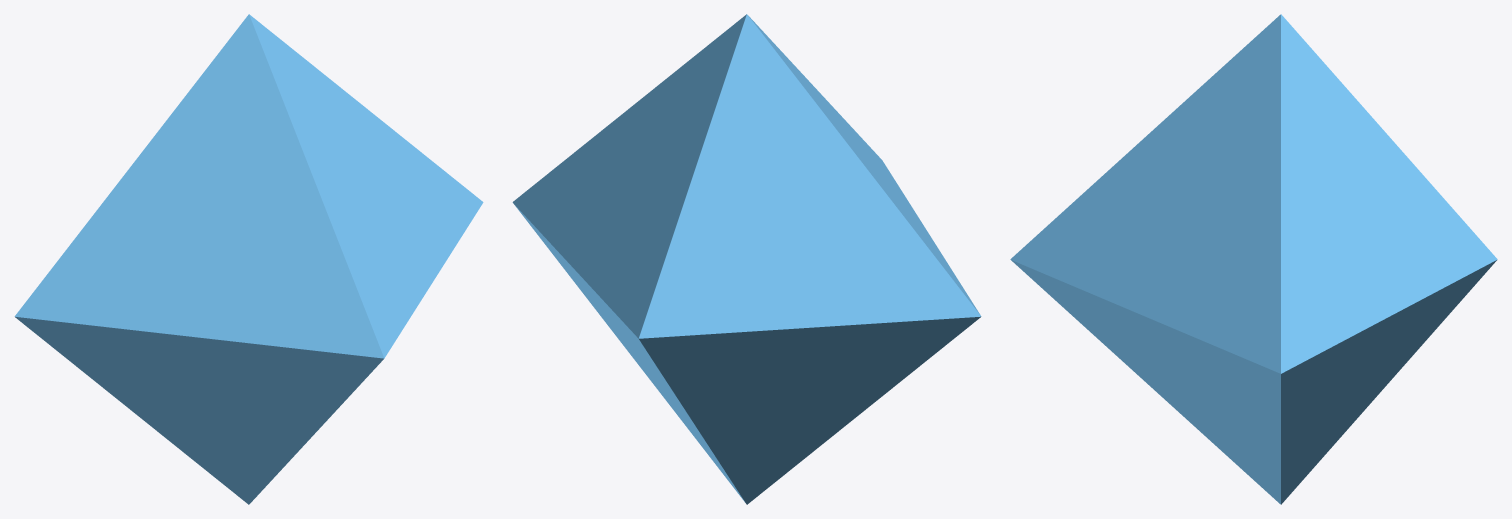
File: 20260311_191815_create_a_rocket_blue_small.glb
3 renders of one model, left to right at view 1: azimuth 30°, elevation 25°; view 2: azimuth 150°, elevation 25°; view 3: azimuth 270°, elevation 25°, orthographic.
Visible parts, largest first — view 1: rocket; view 2: rocket; view 3: rocket.
Part boxes in pixels (box(x1,y1,x2,y2)): rocket: box(14, 14, 483, 504); rocket: box(512, 14, 981, 504); rocket: box(1010, 14, 1497, 504).
Size of the model in its own units: 2 by 2 by 1.8.
